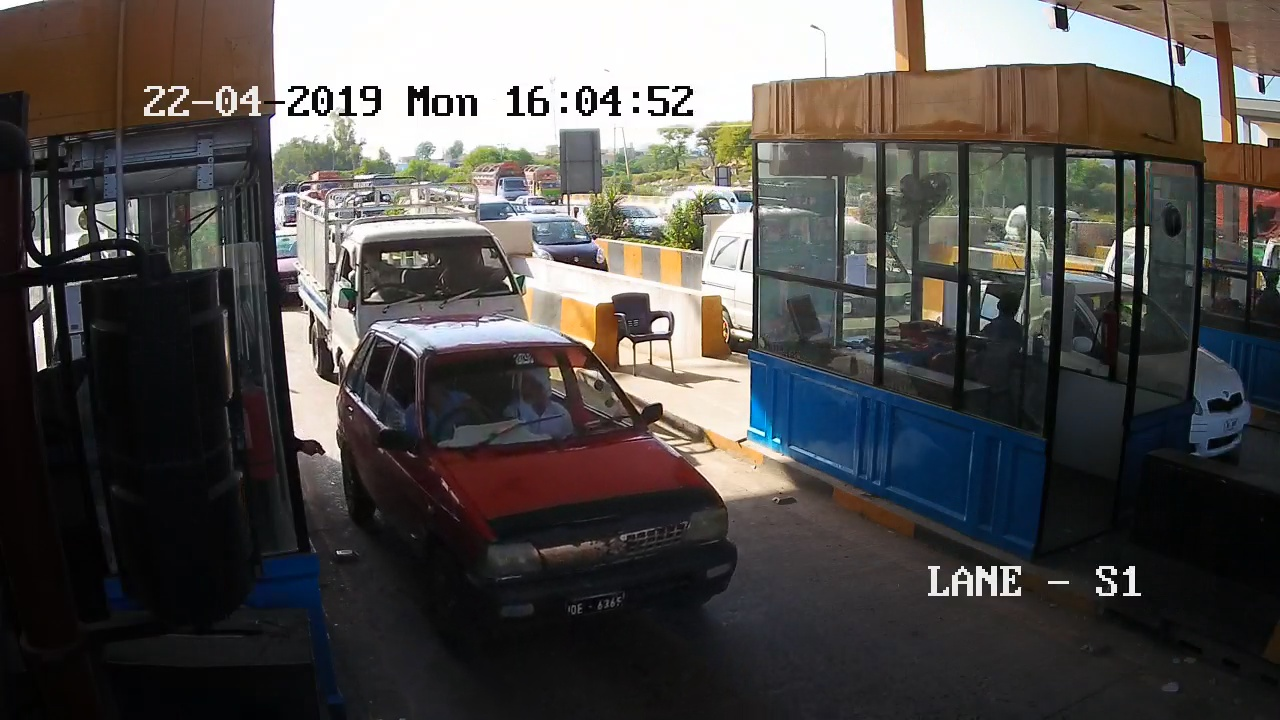Number Plate (Car): (563, 597, 629, 614)
